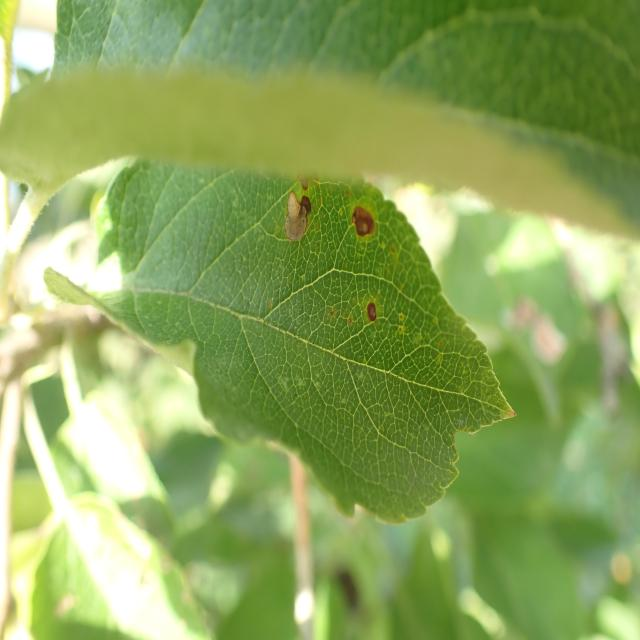frog-eye-leaf-spot: (43, 166, 516, 526)
